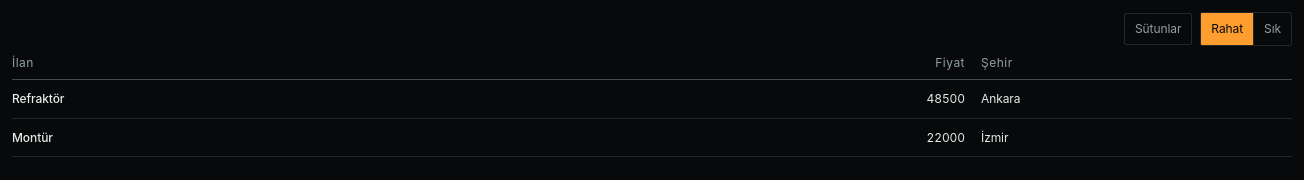
Test case: DataTable — sütun ve yoğunluk › kimlik sütunu kapatılamıyor
What coordinates should you click on to do the following:
click the button "Sütunlar"
I would click on:
 (1158, 29)
Its box is 1124,13 -> 1192,45.
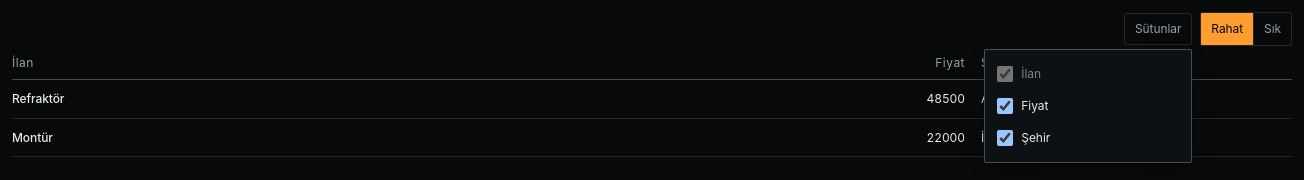
Now the checkbox labelled "İlan" is disabled, box 997,66 -> 1013,82
